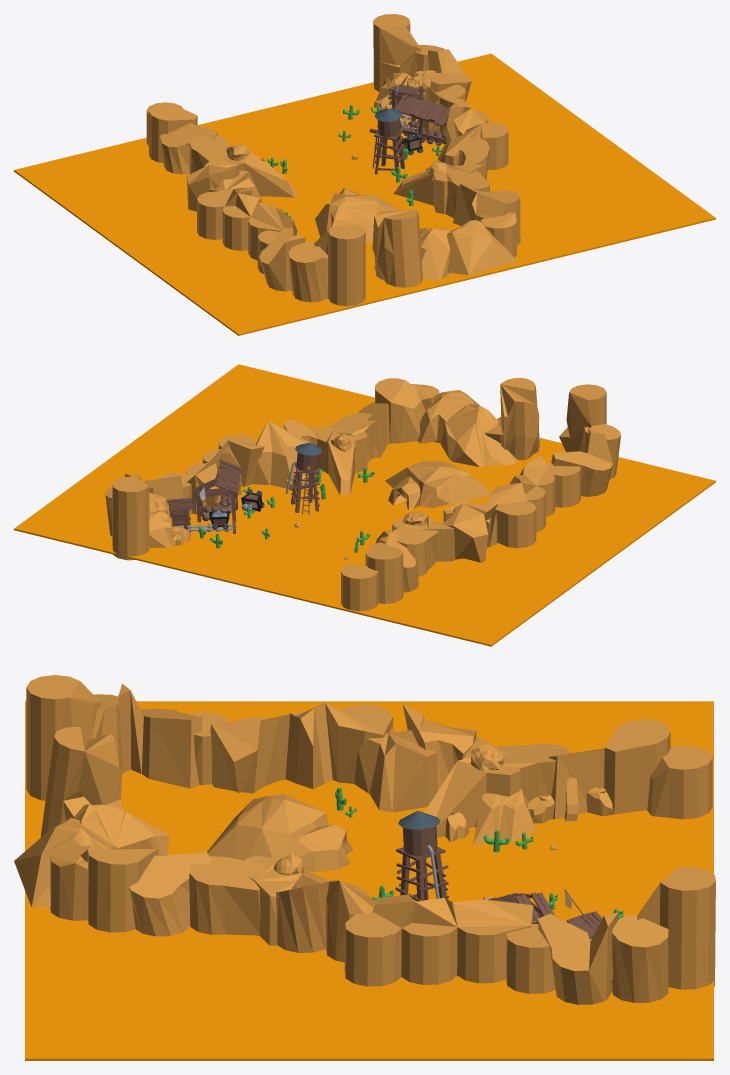
File: desert-canyon-01.glb
The picture shows the model from 3 angles, top to bottom: view 1: azimuth 30°, elevation 25°; view 2: azimuth 150°, elevation 25°; view 3: azimuth 270°, elevation 25°; orthographic projection. The views are drawn at different scales.
Visible parts, largest first — view 1: group878820196, group766288558, group1139096813, group1671287248, group1372401456, group2006108844, group2072152860, group2067367307, group1326446674, group364165406, group1120459979, group968380096 (+21 smaller); view 2: group878820196, group1943424411, group1139096813, group968380096, group2067367307, group1174087340, group79796929, group1372401456, group364165406, group9873244, group1217102035, group2072152860 (+23 smaller); view 3: group878820196, group364165406, group1737333346, group695188634, group147204633, group1569163156, group1139096813, group617086765, group606053961, group1372401456, group1217102035, group1843310839 (+30 smaller).
Part boxes in pixels (bbox=[...]): group878820196: bbox=[14, 53, 715, 335]; group766288558: bbox=[447, 220, 517, 275]; group1139096813: bbox=[315, 193, 399, 242]; group1671287248: bbox=[288, 241, 327, 302]; group1372401456: bbox=[372, 209, 420, 262]; group2006108844: bbox=[314, 224, 365, 273]; group2072152860: bbox=[373, 14, 420, 65]; group2067367307: bbox=[393, 163, 485, 214]; group1326446674: bbox=[204, 144, 297, 197]; group364165406: bbox=[259, 227, 305, 291]; group1120459979: bbox=[372, 108, 405, 174]; group968380096: bbox=[197, 187, 252, 239]; group878820196: bbox=[14, 364, 715, 646]; group1943424411: bbox=[440, 404, 517, 466]; group1139096813: bbox=[385, 460, 491, 507]; group968380096: bbox=[487, 482, 536, 548]; group2067367307: bbox=[309, 427, 367, 495]; group1174087340: bbox=[375, 378, 423, 443]; group79796929: bbox=[253, 420, 309, 488]; group1372401456: bbox=[500, 378, 539, 449]; group364165406: bbox=[551, 428, 612, 496]; group9873244: bbox=[442, 503, 497, 562]; group1217102035: bbox=[365, 542, 403, 603]; group2072152860: bbox=[112, 476, 149, 526]; group878820196: bbox=[25, 701, 713, 1060]; group364165406: bbox=[118, 684, 202, 788]; group1737333346: bbox=[354, 726, 437, 812]; group695188634: bbox=[210, 714, 290, 793]; group147204633: bbox=[189, 856, 265, 935]; group1569163156: bbox=[538, 912, 618, 1004]; group1139096813: bbox=[207, 794, 328, 860]; group617086765: bbox=[452, 899, 533, 983]; group606053961: bbox=[344, 894, 415, 986]; group1372401456: bbox=[47, 726, 122, 805]; group1217102035: bbox=[604, 719, 670, 814]; group1843310839: bbox=[612, 914, 668, 1002].
Size of the model in its own units: 9.51 by 1.5 by 7.9.
